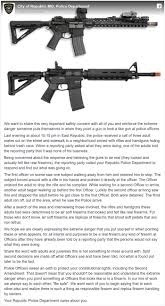pistol: (8, 61, 161, 114), (8, 11, 159, 50)
